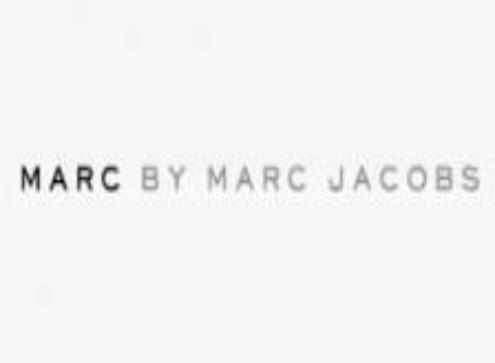MARC-JACOBS: (1, 147, 495, 241)
